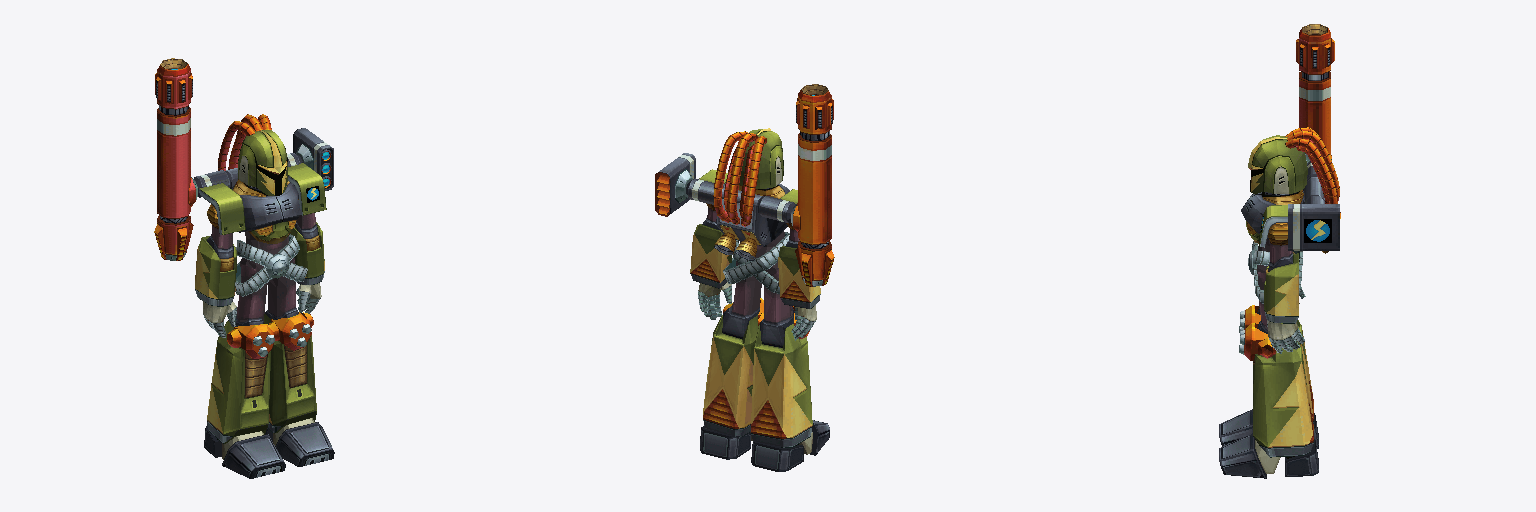
The picture shows the model from 3 angles: view 1: azimuth 30°, elevation 25°; view 2: azimuth 150°, elevation 25°; view 3: azimuth 270°, elevation 25°; orthographic projection.
Visible parts, largest first — view 1: submesh0; view 2: submesh0; view 3: submesh0.
Part boxes in pixels (left/top/right/bottom): submesh0: left=154, top=58, right=334, bottom=478; submesh0: left=655, top=84, right=834, bottom=471; submesh0: left=1219, top=24, right=1340, bottom=478.
Size of the model in its own units: 10.21 by 23 by 6.5.
1 materials, 1 textured.